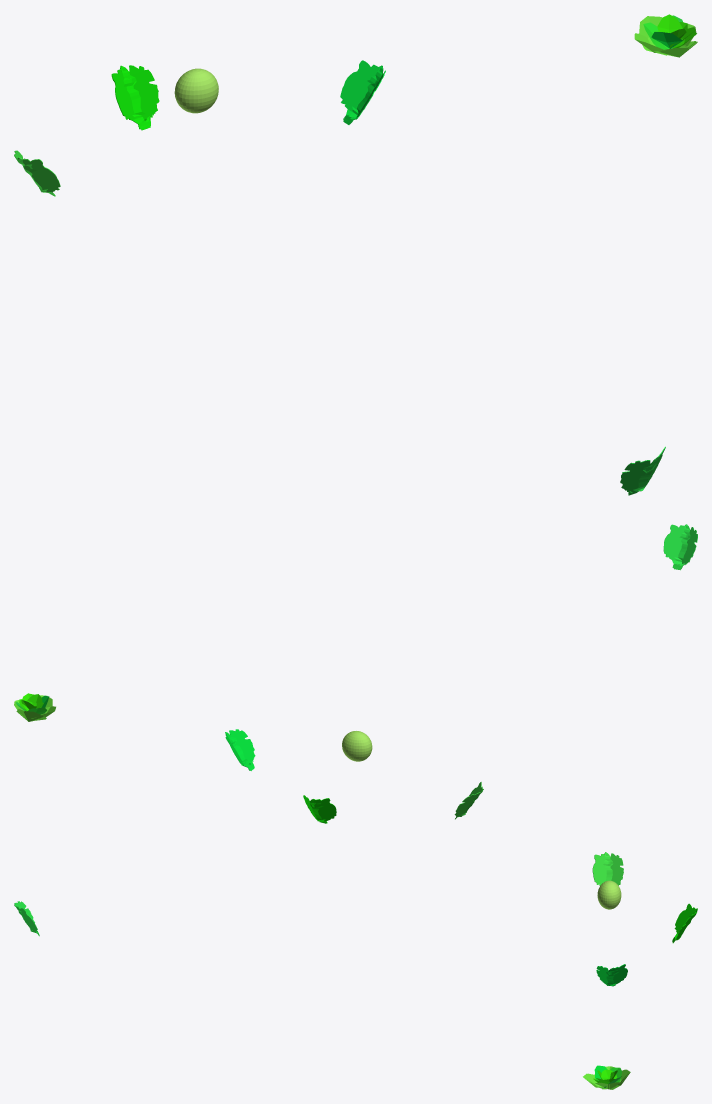
Rendered from Lettuce_Growing.fbx.
3 renders of one model, top to bottom at view 1: azimuth 30°, elevation 25°; view 2: azimuth 150°, elevation 25°; view 3: azimuth 270°, elevation 25°, orthographic. The views are drawn at different scales.
Parts seen in each view (by area): view 1: Cube.002, Cube, Sphere, Cube.001, Cube.003; view 2: Cube.001, Cube, Sphere, Cube.002; view 3: Cube.003, Sphere, Cube, Cube.002.
Boxes of the visible parts, <box> form: Cube.002: <box>111,65,159,130</box>; Cube: <box>340,60,385,124</box>; Sphere: <box>174,68,218,113</box>; Cube.001: <box>620,446,665,495</box>; Cube.003: <box>14,150,60,196</box>; Cube.001: <box>663,524,697,570</box>; Cube: <box>225,729,255,770</box>; Sphere: <box>342,731,372,761</box>; Cube.002: <box>303,795,336,823</box>; Cube.003: <box>592,852,623,885</box>; Sphere: <box>597,880,621,909</box>; Cube: <box>596,964,627,986</box>; Cube.002: <box>672,903,697,943</box>.
Size of the model in its own units: 25412 by 3515 by 35025.
